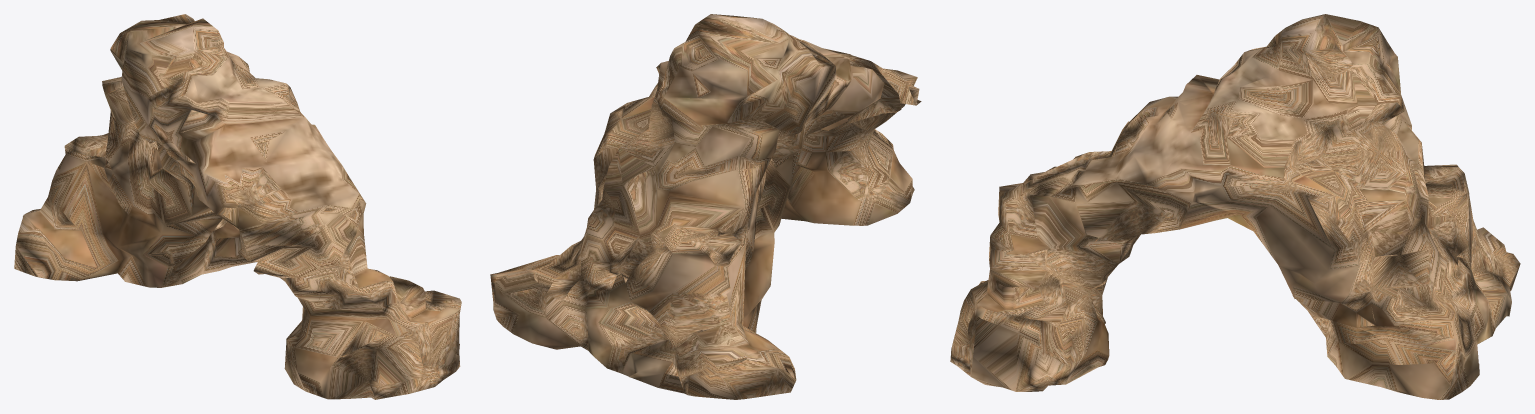
File: rock_slab_a_lod2.glb
The picture shows the model from 3 angles, left to right: view 1: azimuth 30°, elevation 25°; view 2: azimuth 150°, elevation 25°; view 3: azimuth 270°, elevation 25°; orthographic projection. The views are drawn at different scales.
Visible parts, largest first — view 1: model.011; view 2: model.011; view 3: model.011.
Boxes of the visible parts, <box> form: model.011: <box>14,14,461,399</box>; model.011: <box>490,14,921,399</box>; model.011: <box>950,14,1520,399</box>.
Size of the model in its own units: 1.15 by 1.06 by 1.9.
Materials: 1 (1 with a texture image).
